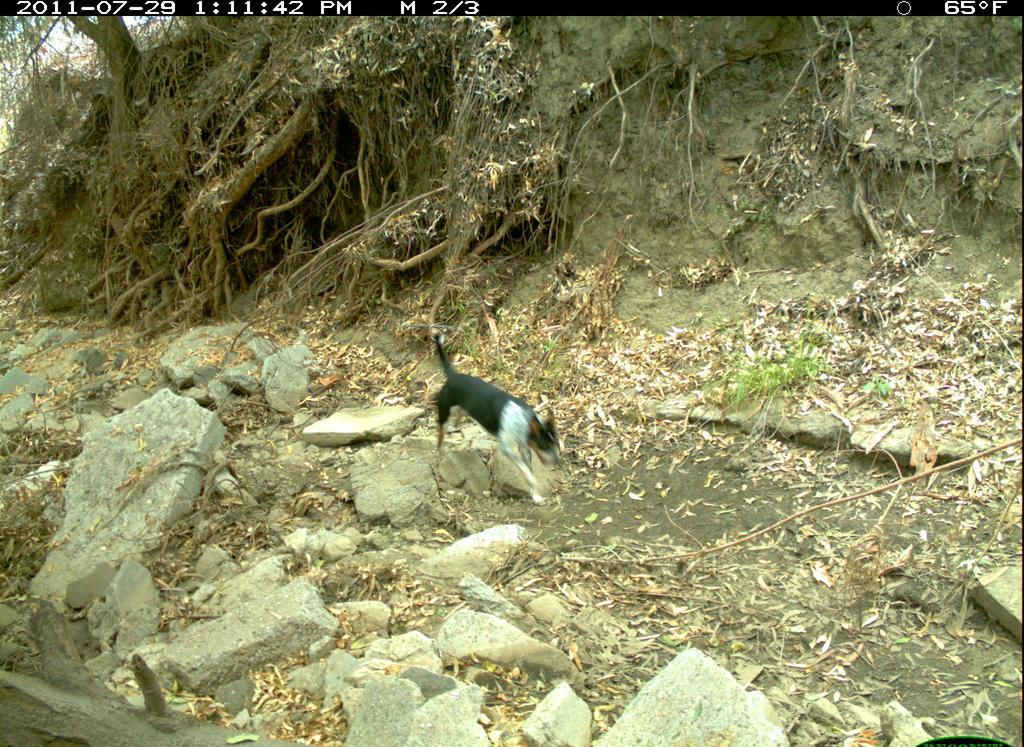dog: (423, 323, 566, 510)
